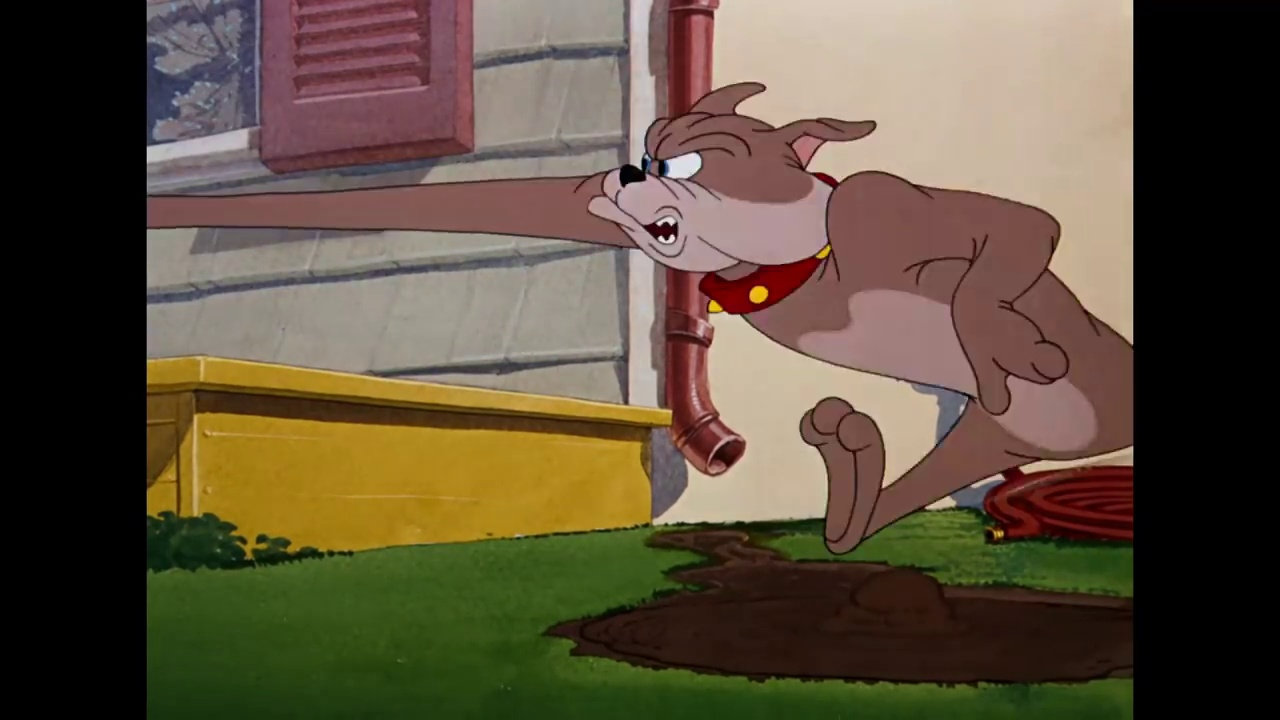spike: (590, 84, 879, 318)
